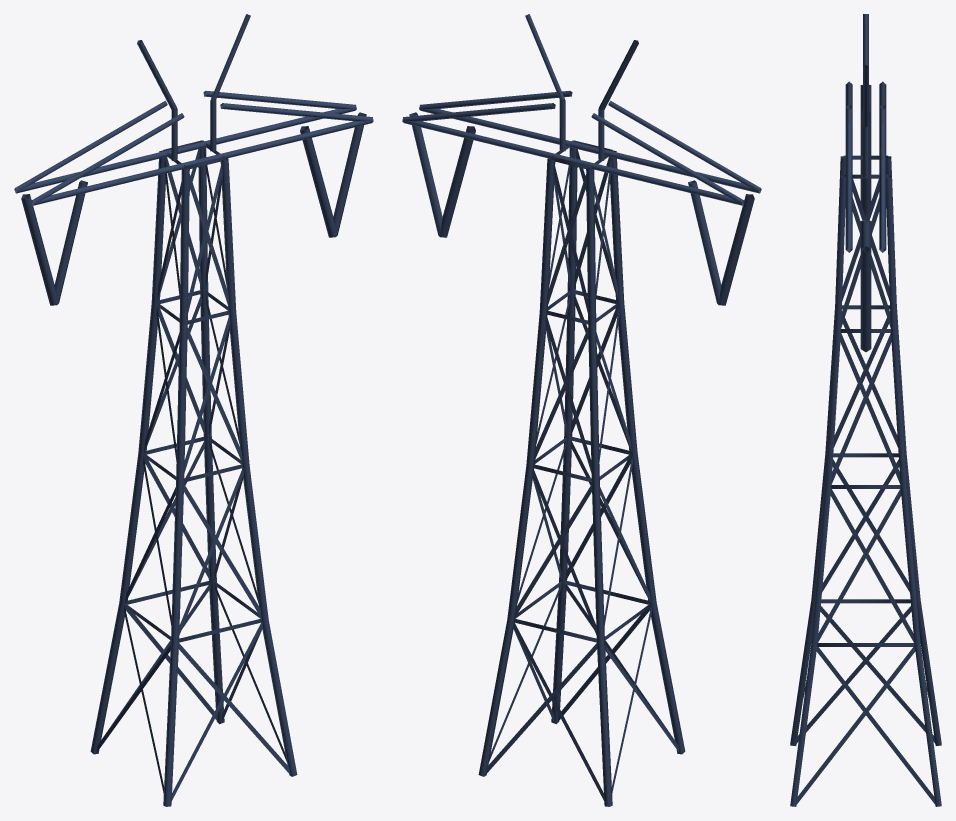
File: torre-cc.glb
3 renders of one model, left to right at view 1: azimuth 30°, elevation 25°; view 2: azimuth 150°, elevation 25°; view 3: azimuth 270°, elevation 25°, orthographic.
Visible parts, largest first — view 1: torre-cc; view 2: torre-cc; view 3: torre-cc.
Part boxes in pixels (box(x1,y1,x2,y2)): torre-cc: box(14, 14, 373, 806); torre-cc: box(402, 14, 761, 806); torre-cc: box(790, 14, 941, 806).
Bounding box in the file's own units: 28.52 × 58.19 × 10.82.
